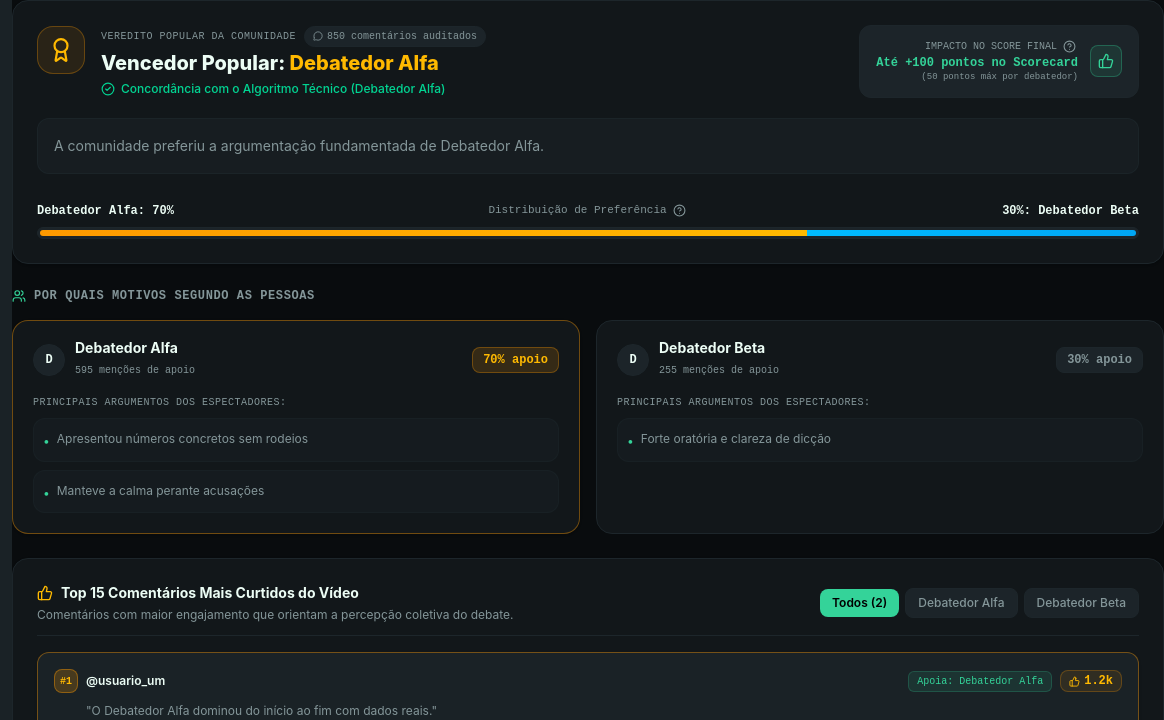
Test: AudienceSentimentPanel Component › deve renderizar os comentários mais curtidos e permitir filtrar por debatedor
Expected: the text "Top 15 Comentários Mais Curtidos do Vídeo" is shown, 61,583 -> 359,603
Expected: the text "@usuario_um" is shown, 86,673 -> 165,689
Note: Filtrar apenas Debatedor Beta
Click the button "Debatedor Beta".
click(1081, 603)  # box 1024,588 -> 1139,618
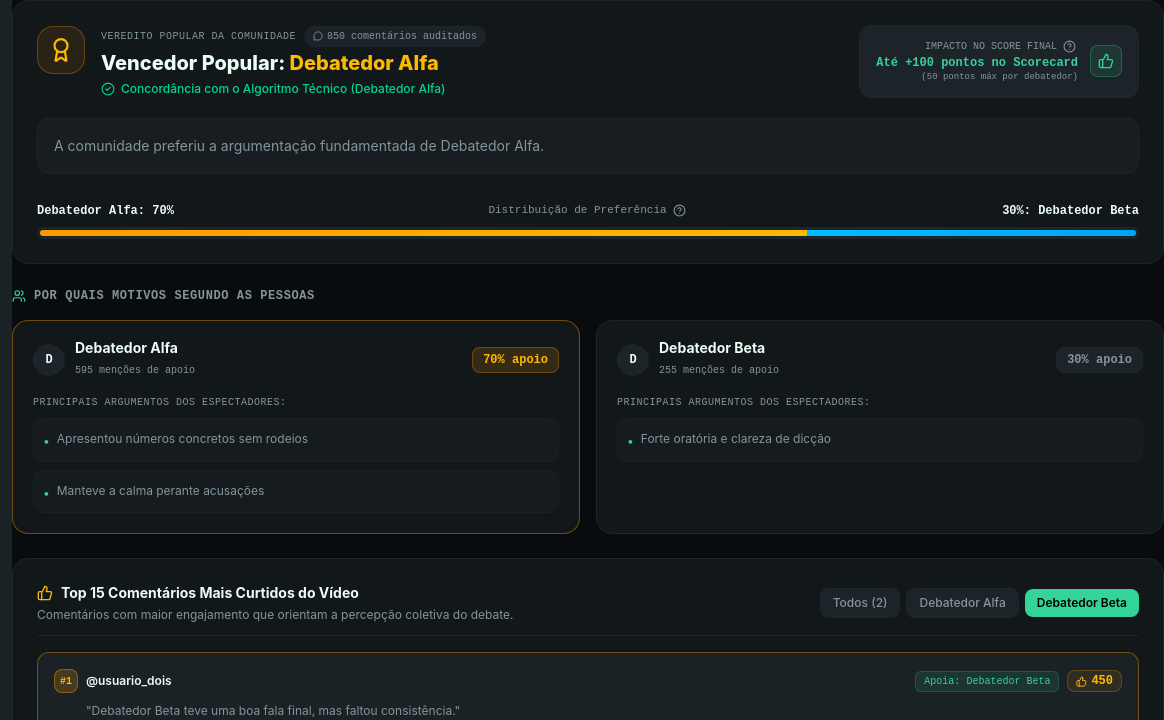
Expected: the text "@usuario_dois" is shown, 86,673 -> 172,689
Expected: the text "@usuario_um" is gone
